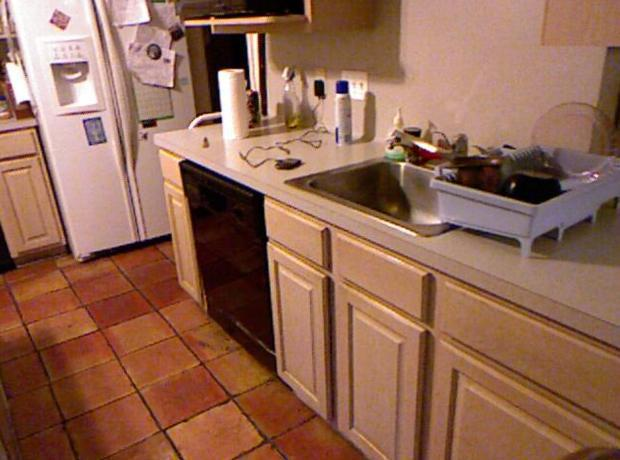Lavaplatos: (290, 114, 502, 254)
